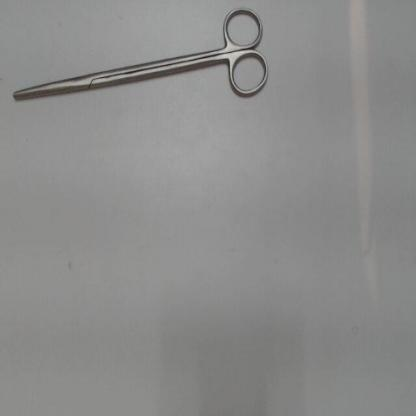9 Metzenbaum Scissors: (10, 3, 275, 108)
